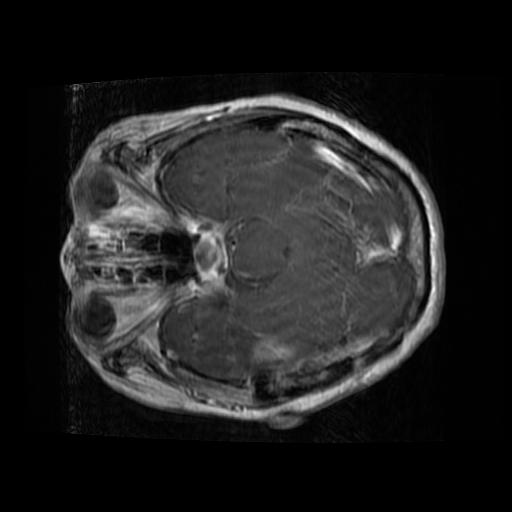glioma: (241, 329, 299, 373)
